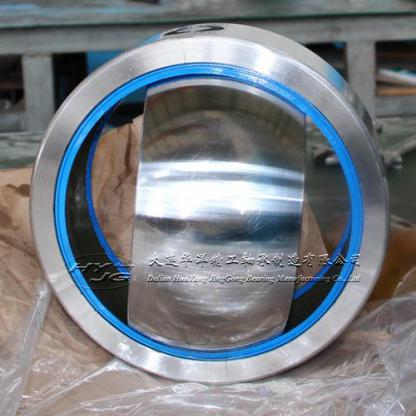FOD: (24, 16, 402, 392)
